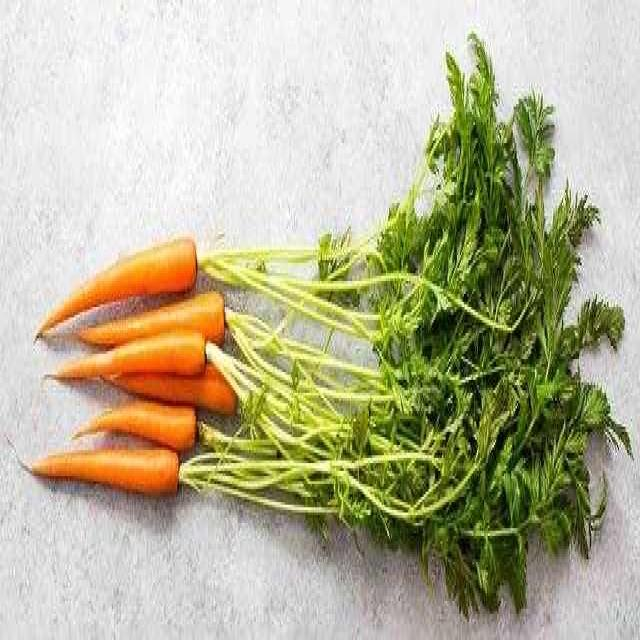carrots: (40, 430, 182, 539), (31, 238, 197, 315), (62, 318, 209, 391)
